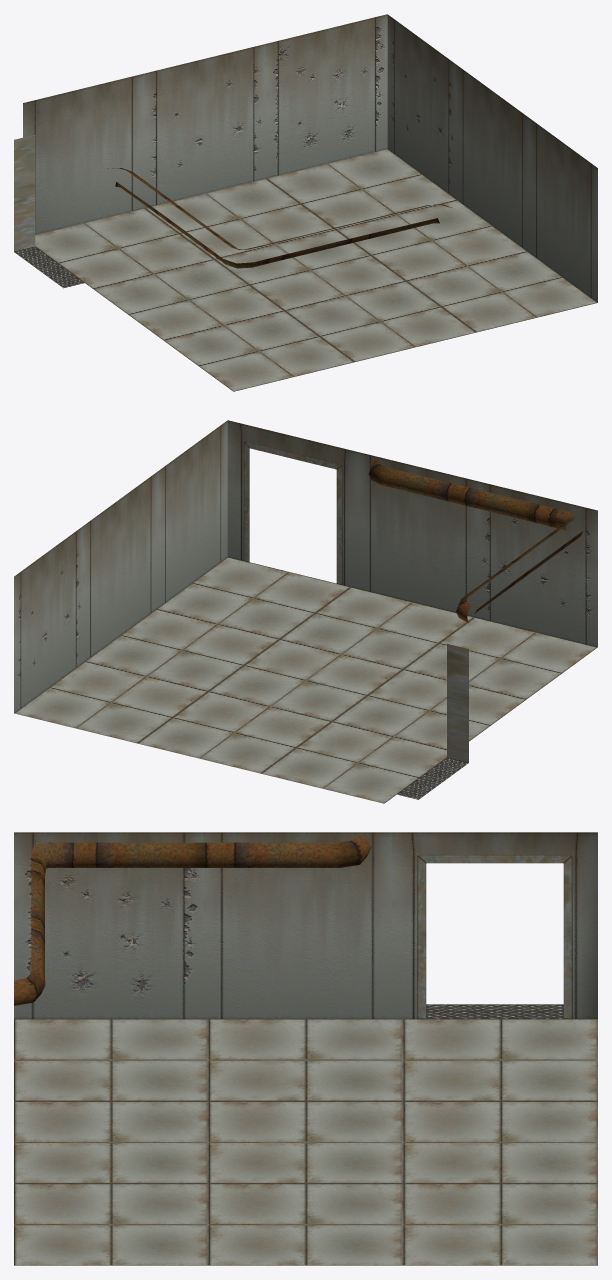
Rendered from ControlTowerInt01D.glb.
The picture shows the model from 3 angles, top to bottom: view 1: azimuth 30°, elevation 25°; view 2: azimuth 150°, elevation 25°; view 3: azimuth 270°, elevation 25°; orthographic projection. The views are drawn at different scales.
Visible parts, largest first — view 1: CONTROLTOWERINT01D; view 2: CONTROLTOWERINT01D; view 3: CONTROLTOWERINT01D.
Boxes of the visible parts, box(x1,y1,x2,y2) form: CONTROLTOWERINT01D: box(14, 14, 597, 391); CONTROLTOWERINT01D: box(14, 420, 597, 803); CONTROLTOWERINT01D: box(14, 832, 597, 1265).
Bounding box in the file's own units: 9 × 3 × 8.5.
8 materials, 8 textured.
